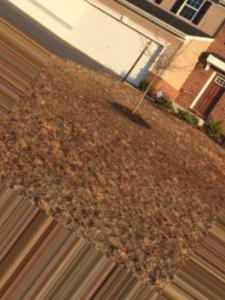patch: (30, 74, 124, 195), (77, 205, 197, 277), (129, 116, 186, 199), (195, 137, 221, 205)
